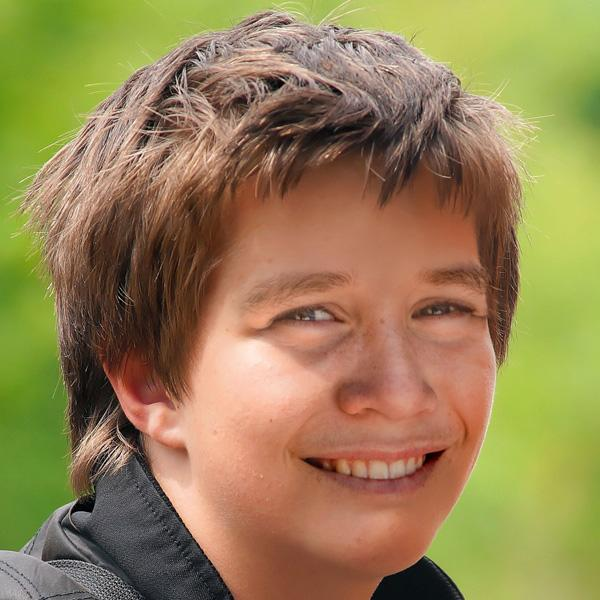Eyes: (255, 292, 359, 343), (396, 288, 484, 337)
